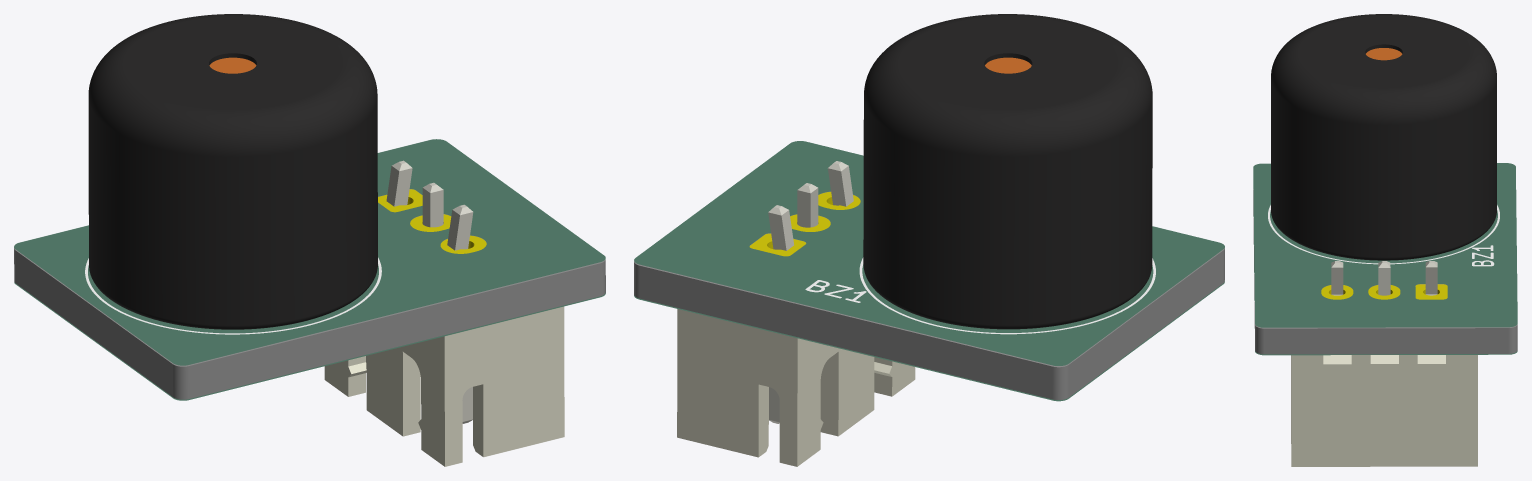
File: buzzer2.glb
3 renders of one model, left to right at view 1: azimuth 30°, elevation 25°; view 2: azimuth 150°, elevation 25°; view 3: azimuth 270°, elevation 25°, orthographic. The views are drawn at different scales.
Visible parts, largest first — view 1: buzzer, Buzzer module_silkscreen010, jstpin; view 2: buzzer, Buzzer module_silkscreen010, jstpin; view 3: buzzer, Buzzer module_silkscreen010, jstpin.
Boxes of the visible parts, x1=… form: buzzer: x1=88, y1=14, x2=377, y2=329; Buzzer module_silkscreen010: x1=14, y1=139, x2=605, y2=400; jstpin: x1=324, y1=160, x2=564, y2=466; buzzer: x1=863, y1=14, x2=1152, y2=329; Buzzer module_silkscreen010: x1=634, y1=141, x2=1224, y2=401; jstpin: x1=677, y1=161, x2=915, y2=466; buzzer: x1=1271, y1=14, x2=1496, y2=260; Buzzer module_silkscreen010: x1=1253, y1=163, x2=1517, y2=355; jstpin: x1=1291, y1=261, x2=1477, y2=466.
Bounding box in the file's own units: 78.45 × 68.66 × 52.92.
